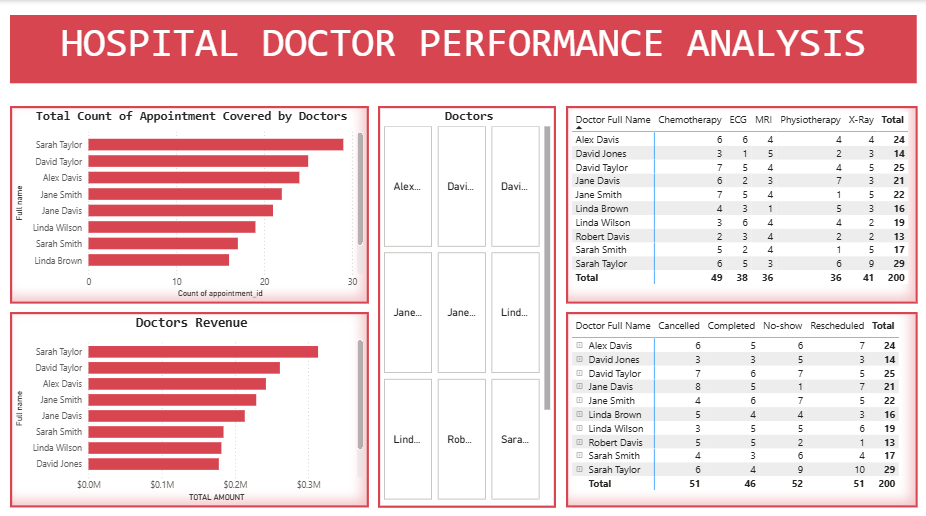

The page's visual inventory and layout, read from the dashboard file:
{"tool":"powerbi","page":{"name":"DOCTOR","canvas":[1280,720],"ordinal":2},"visuals":[{"type":"pivotTable","fields":{"Rows":["DOCTORS.Full name"],"Values":["TREATMENT.appointment_id"],"Columns":["TREATMENT.treatment_type"]},"box":[781.1,146.1,483.8,272.1],"z":0},{"type":"textbox","box":[16.8,20.2,1248.1,94.1],"z":1000},{"type":"clusteredBarChart","title":"Doctors Revenue","fields":{"Category":["DOCTORS.Full name"],"Y":["BILLING.TOTAL AMOUNT"]},"box":[16.8,430,493.9,268.8],"z":2000},{"type":"clusteredBarChart","title":"Total Count of Appointment Covered by Doctors","fields":{"Category":["DOCTORS.Full name"],"Y":["APPOINTMENT.appointment_id"]},"box":[16.5,145.9,494.1,272.5],"z":3000},{"type":"pivotTable","fields":{"Rows":["DOCTORS.Full name","APPOINTMENT.reason_for_visit"],"Values":["APPOINTMENT.status"],"Columns":["APPOINTMENT.status"]},"box":[781.1,430,483.8,268.8],"z":4000},{"type":"advancedSlicerVisual","title":"Doctors","fields":{"Values":["DOCTORS.Full name"]},"box":[522.4,146.1,245.2,552.7],"z":5000},{"type":"actionButton","box":[22.2,680.2,100.8,39.3],"z":5001}]}

Visuals, with their boxes in screenshot pixels (x1, y1, x2, y2), scaled from the page's 1280x720 canvas onto the 926x516 screenshot:
pivotTable - DOCTORS.Full name x TREATMENT.appointment_id: pyautogui.locateOnScreen(565, 105, 915, 300)
textbox: pyautogui.locateOnScreen(12, 14, 915, 82)
"Doctors Revenue" clusteredBarChart: pyautogui.locateOnScreen(12, 308, 369, 501)
"Total Count of Appointment Covered by Doctors" clusteredBarChart: pyautogui.locateOnScreen(12, 105, 369, 300)
pivotTable - DOCTORS.Full name x APPOINTMENT.reason_for_visit: pyautogui.locateOnScreen(565, 308, 915, 501)
"Doctors" advancedSlicerVisual: pyautogui.locateOnScreen(378, 105, 555, 501)
actionButton: pyautogui.locateOnScreen(16, 487, 89, 515)
